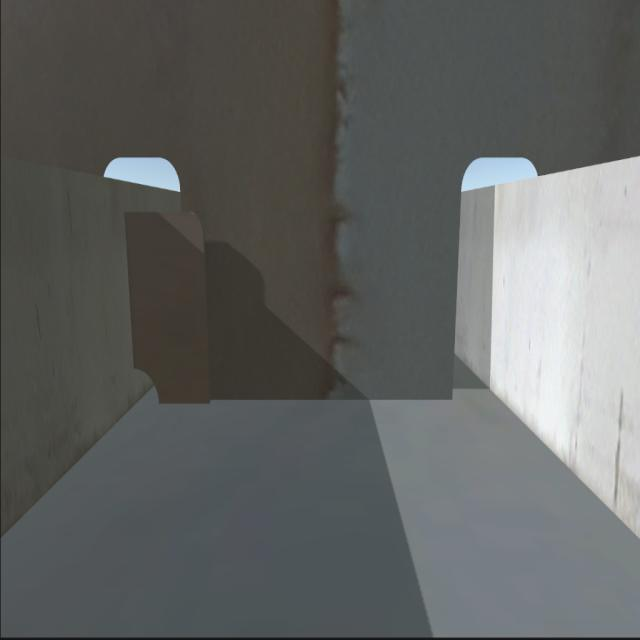fillet_hole: (132, 360, 163, 405)
fillet_yong_jeop_jang: (155, 390, 450, 407)
longi_yong_jeop_jang: (124, 216, 137, 361)
plate_CP05: (129, 210, 212, 403)
